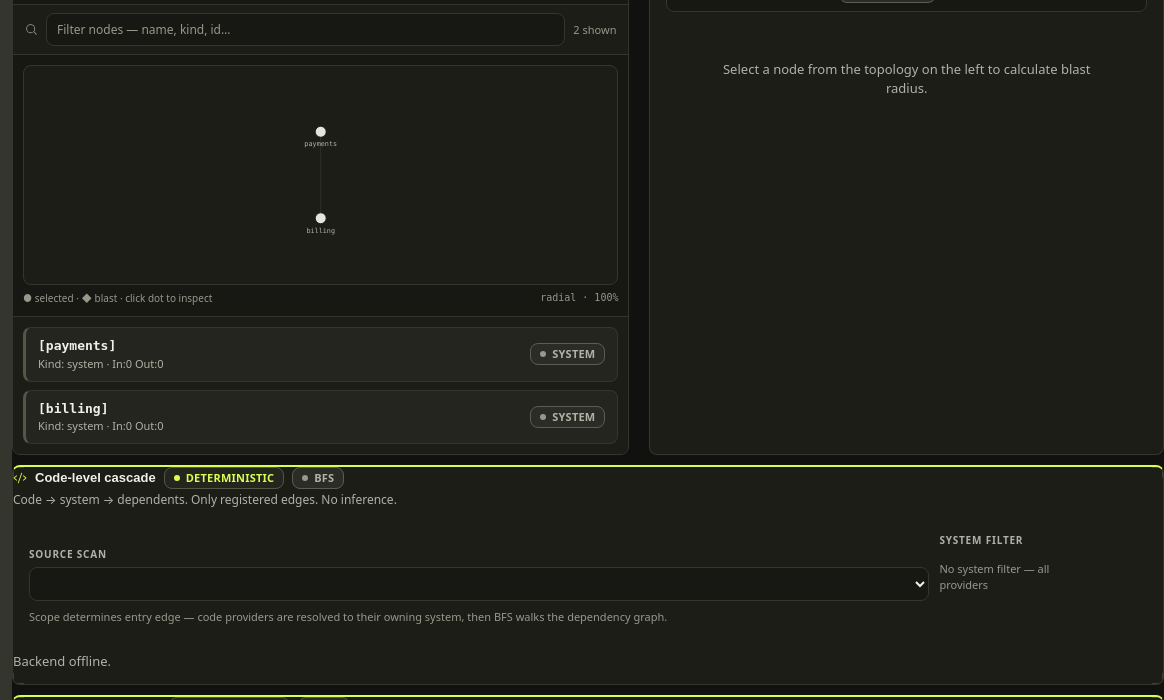
Scenario: DependencyGraph — honest blast radius and backend › counts impacted systems from the real `systems` field with per-system hops
(page scrolled)
Click the text "payments" at [77, 345], box x1=46 y1=338 x2=108 y2=353
(page scrolled)
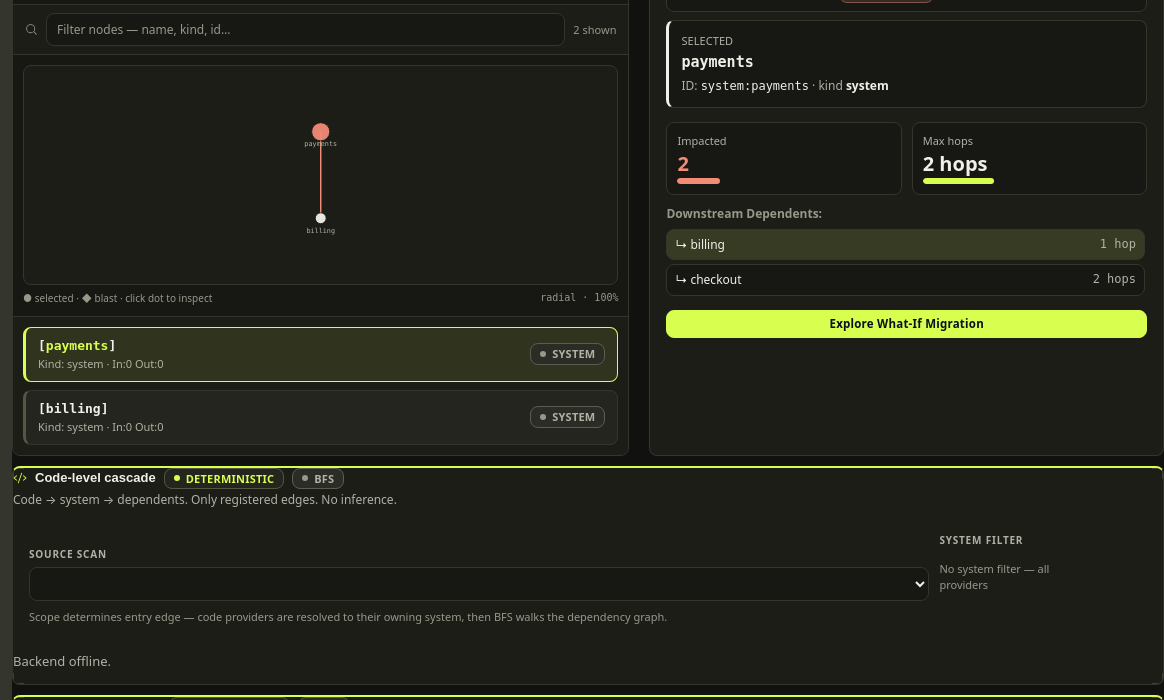
Check: the text "Downstream Dependents:" is shown, box x1=666 y1=205 x2=822 y2=222
Check: the element showing "↳ billing 1 hop" is shown, box x1=666 y1=229 x2=1145 y2=260
Check: the element showing "↳ checkout 2 hops" is shown, box x1=666 y1=264 x2=1145 y2=296
